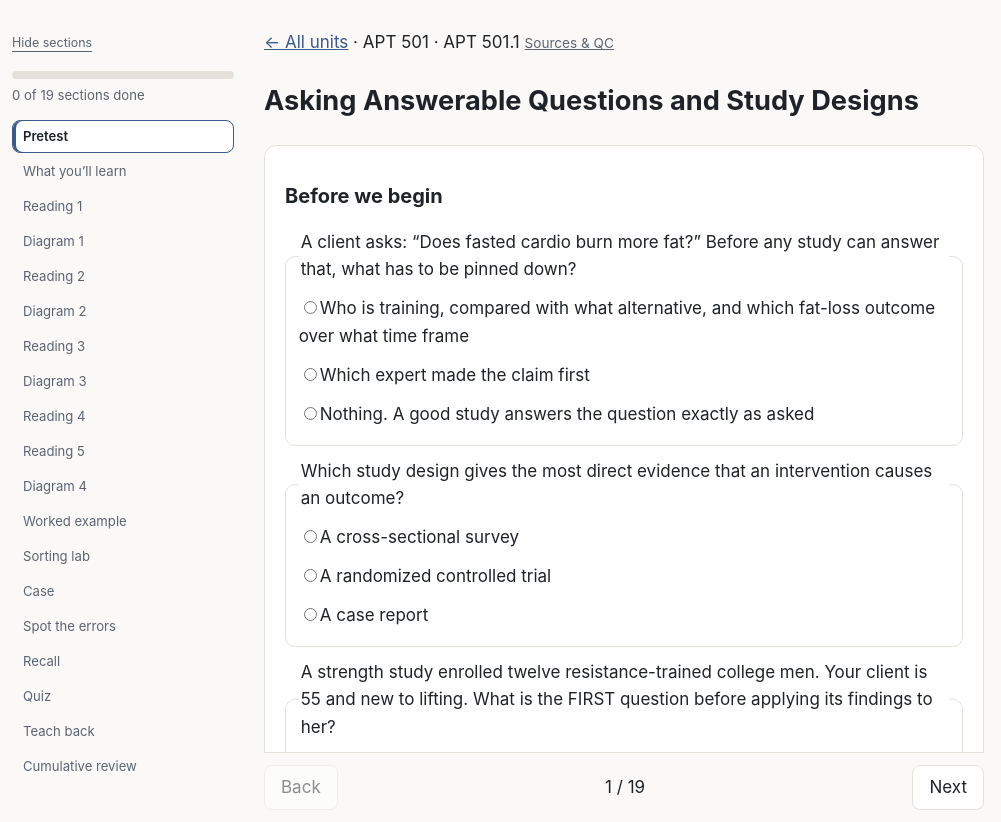
Test: UnitPlayer › records location as the learner advances (for resume)
Click the button "Next": (948, 787) left=912, top=765, right=984, bottom=810
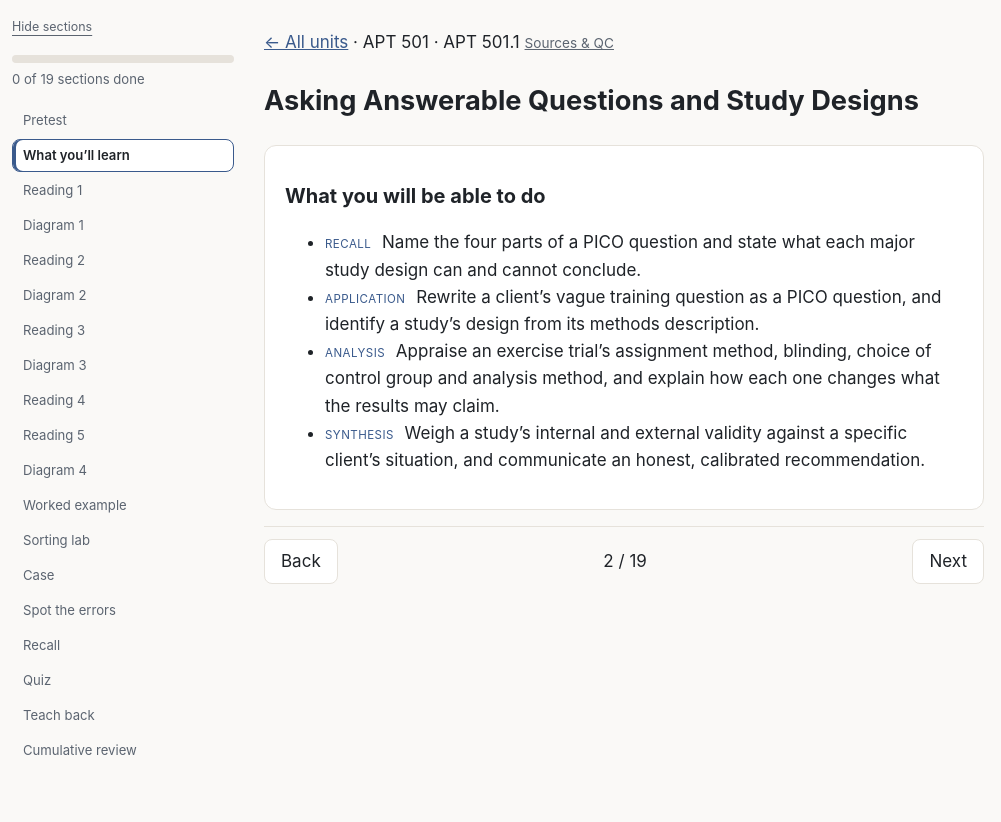
Now the heading "Before we begin" is gone
